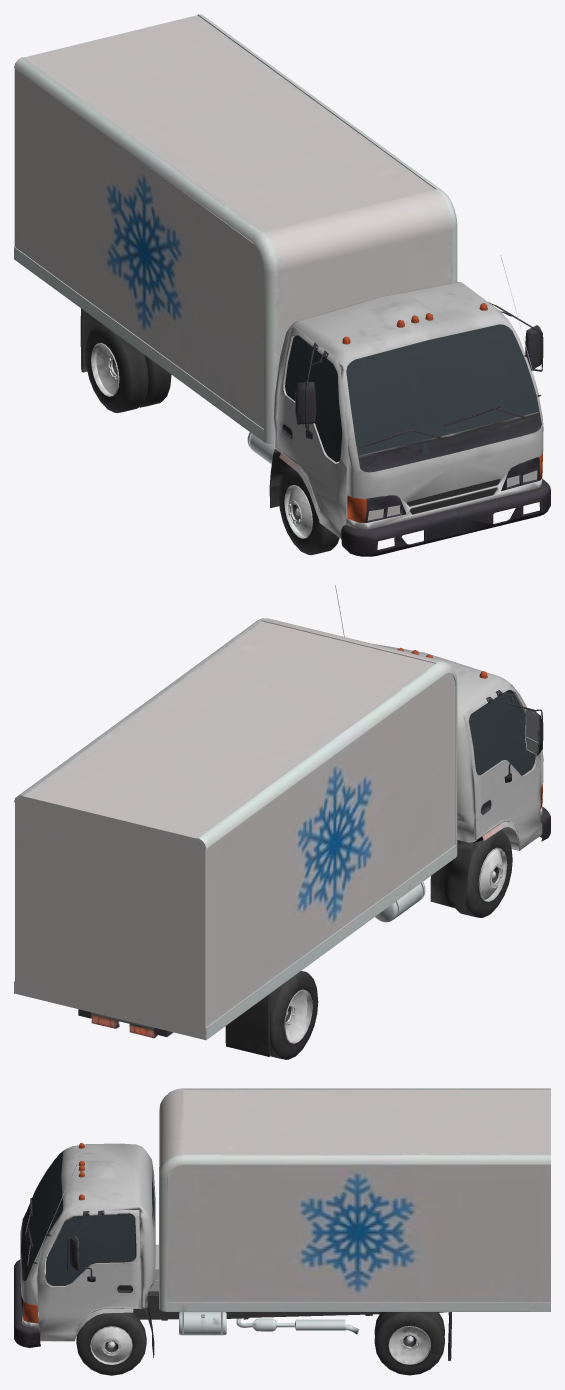
File: yuk-mashina-mobil.glb
3 views of the same model, one above another, from view 1: azimuth 30°, elevation 25°; view 2: azimuth 150°, elevation 25°; view 3: azimuth 270°, elevation 25° (orthographic). The views are drawn at different scales.
Parts seen in each view (by area): view 1: Truck_TruckMt_0, Truck_glassmt_0; view 2: Truck_TruckMt_0, Truck_glassmt_0; view 3: Truck_TruckMt_0, Truck_glassmt_0.
Part boxes in pixels (bbox=[...]): Truck_TruckMt_0: bbox=[14, 14, 550, 556]; Truck_glassmt_0: bbox=[285, 324, 539, 469]; Truck_TruckMt_0: bbox=[14, 585, 550, 1059]; Truck_glassmt_0: bbox=[469, 690, 535, 775]; Truck_TruckMt_0: bbox=[14, 1088, 550, 1375]; Truck_glassmt_0: bbox=[21, 1151, 154, 1285].
Bounding box in the file's own units: 15.74 × 17.49 × 38.83.
2 materials, 1 textured.
